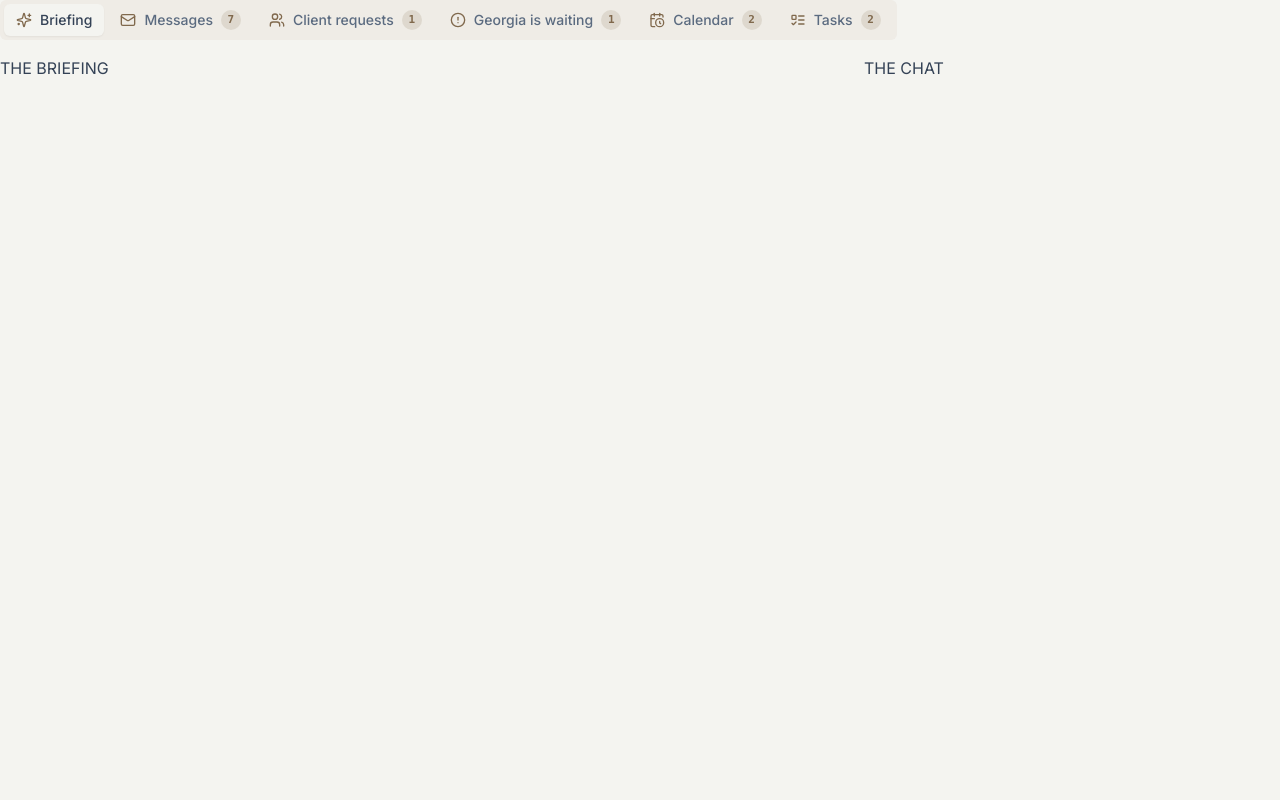
Test: the tabs and what they show › shows the three kinds of message in sections of one tab, with a link to the full inbox
The width and height of the screenshot is (1280, 800).
Press the mouse on the tab with test id "tile-messages": (181, 20) [108,4,253,36]
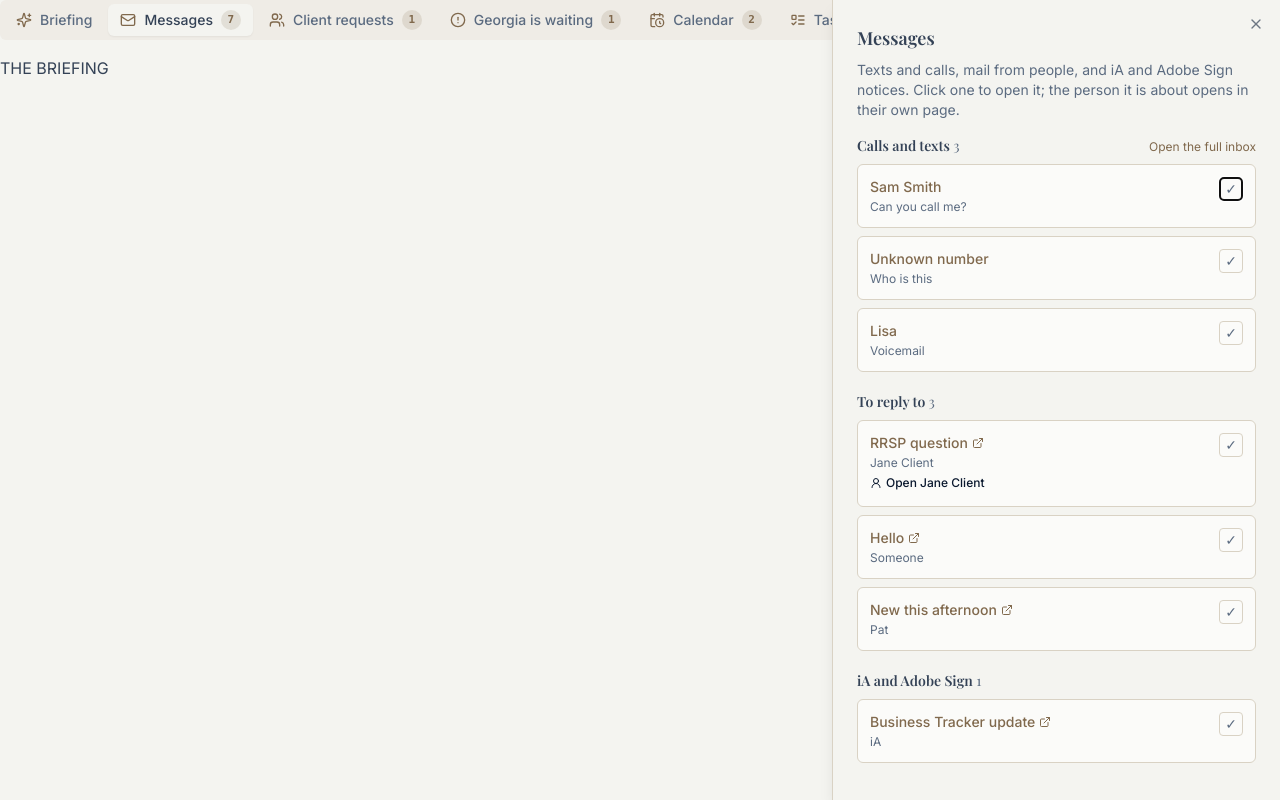
Check: the element with test id "group-texts" is shown, box [857,136,1256,372]
Check: the number of links with test id "open-contact" is 1, box [870,475,984,491]
